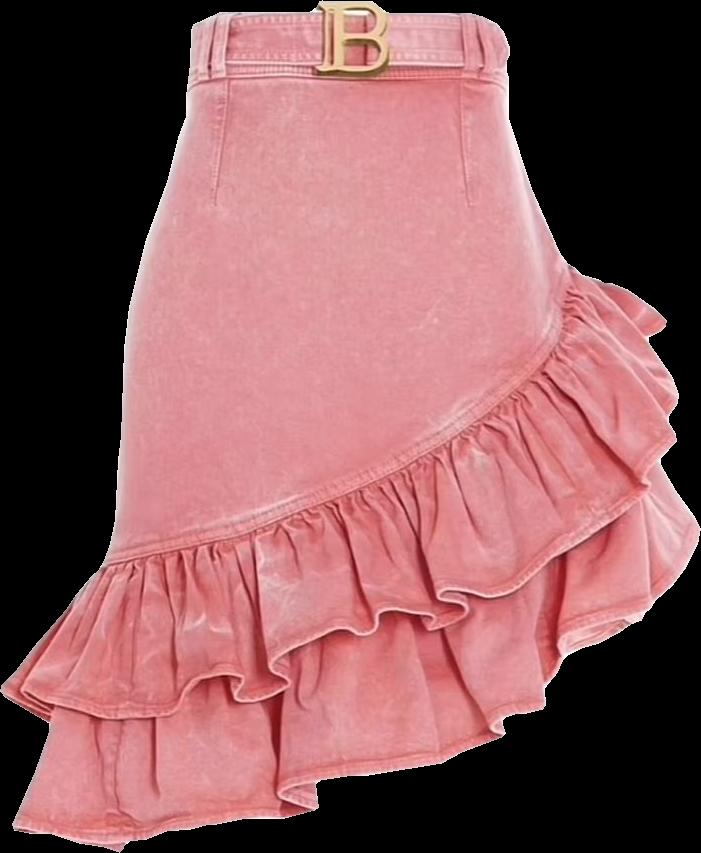Hemline: (0, 318, 682, 721), (9, 527, 700, 852)
Waistline: (96, 259, 575, 570), (186, 3, 500, 35), (180, 70, 508, 95)
